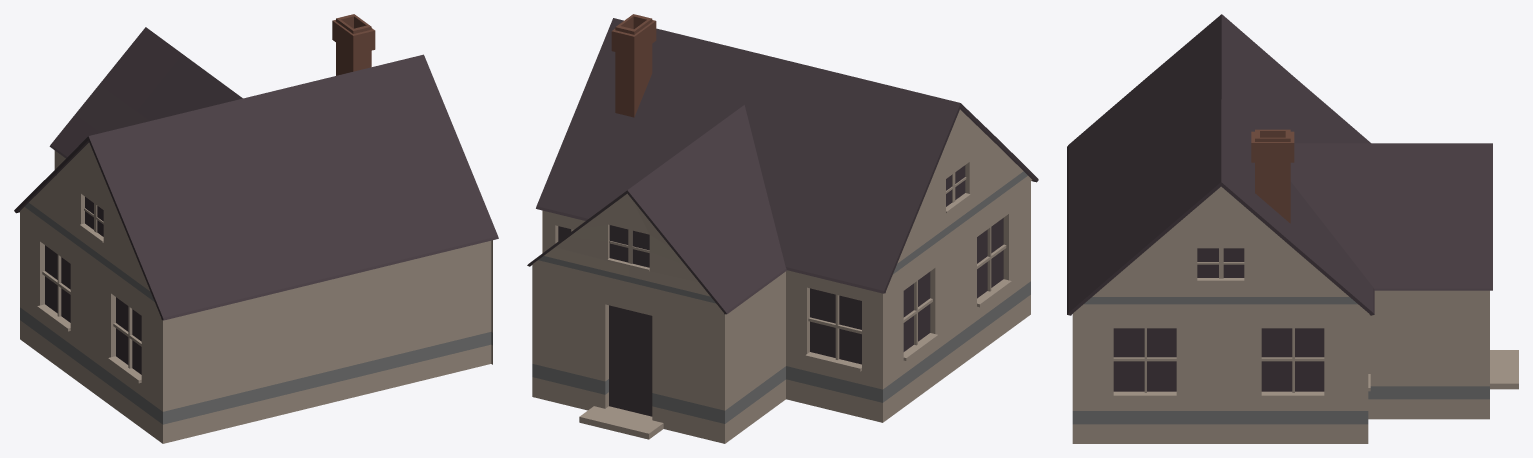
The model's file is Cabin_01.fbx.
The picture shows the model from 3 angles, left to right: view 1: azimuth 30°, elevation 25°; view 2: azimuth 150°, elevation 25°; view 3: azimuth 270°, elevation 25°; orthographic projection. The views are drawn at different scales.
Parts seen in each view (by area): view 1: Cube.006; view 2: Cube.006; view 3: Cube.006.
Boxes of the visible parts, <box> form: Cube.006: <box>14,14,498,443</box>; Cube.006: <box>527,14,1038,443</box>; Cube.006: <box>1067,14,1518,443</box>.
Bounding box in the file's own units: 1375 × 1103 × 1563.
